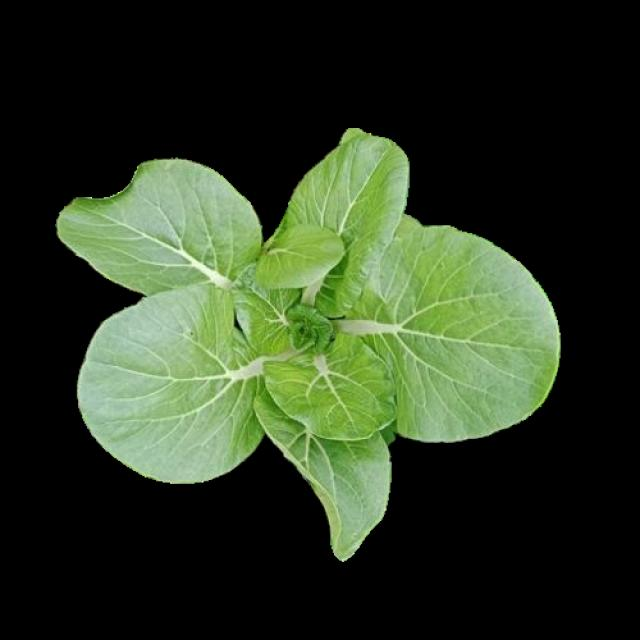healthy: (55, 127, 553, 557)
mature: (58, 130, 556, 560)
